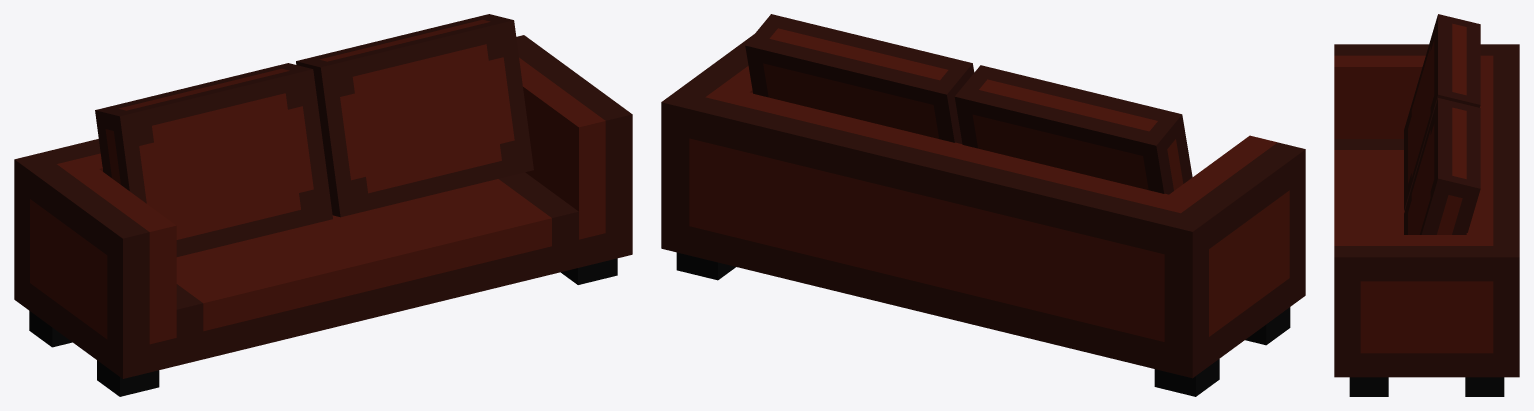
File: sofa.fbx
The picture shows the model from 3 angles, left to right: view 1: azimuth 30°, elevation 25°; view 2: azimuth 150°, elevation 25°; view 3: azimuth 270°, elevation 25°; orthographic projection. The views are drawn at different scales.
Visible parts, largest first — view 1: Sofa; view 2: Sofa; view 3: Sofa.
Part boxes in pixels (x1,y1,x2,y2): Sofa: (14,14,632,396); Sofa: (661,14,1305,396); Sofa: (1334,14,1519,396).
Bounding box in the file's own units: 3.2 × 1.38 × 1.18.
